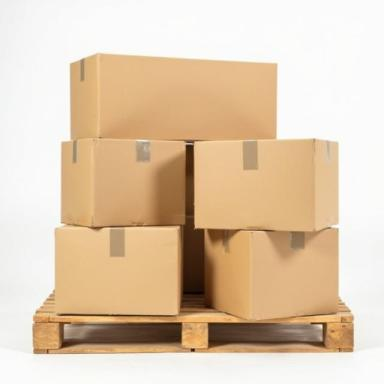pallet: (32, 289, 354, 354), (208, 323, 323, 348), (63, 322, 181, 341)
